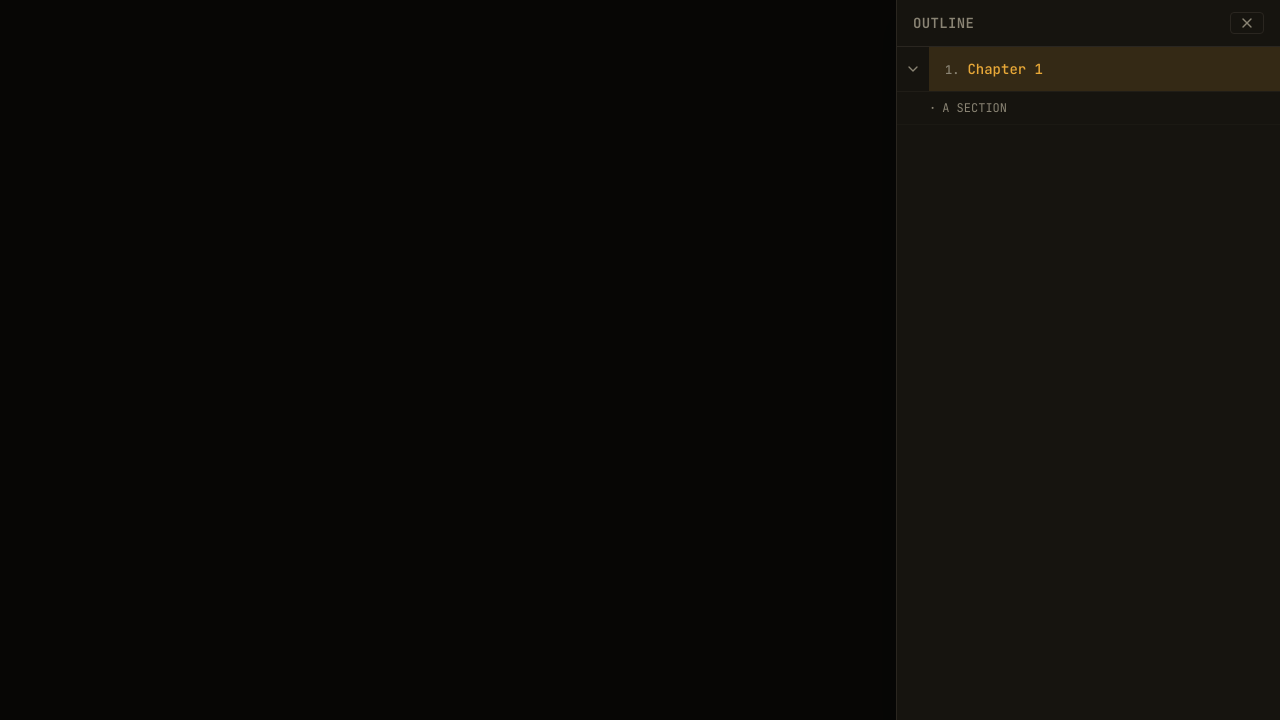
Outline — sub-headings › collapses sub-headings when the chevron of an expanded chapter is toggled
Click the button named "Collapse Chapter 1": (913, 69) 897,47 -> 929,91
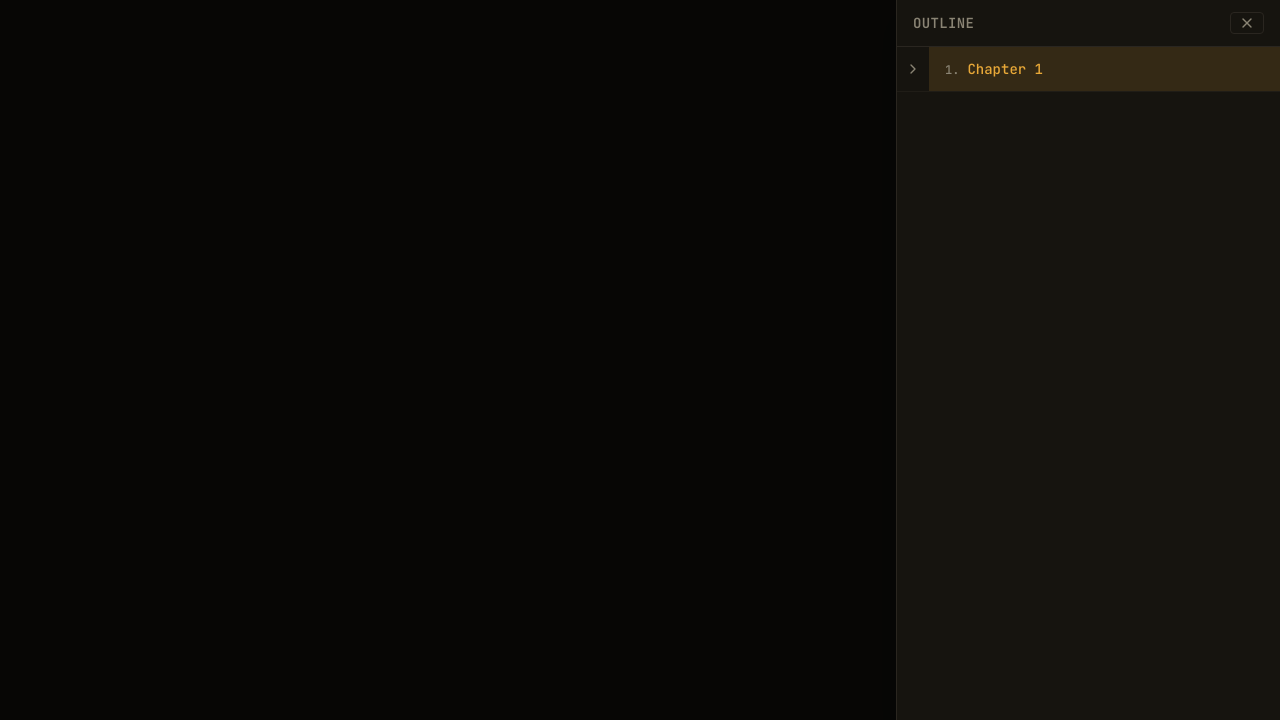
Check: the button "A SECTION" is gone
Check: the button named "Expand Chapter 1" is shown, box 897,47 -> 929,91
